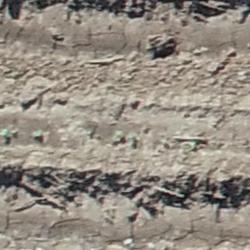cotton: (33, 130, 42, 137), (130, 136, 136, 144), (1, 130, 8, 136)
